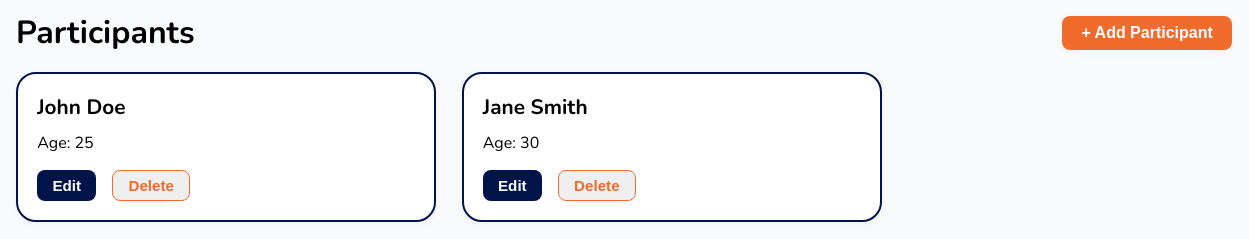
Test: ParticipantsHome Component - Unit Tests › Delete Participant Functionality › should delete participant successfully
The width and height of the screenshot is (1249, 239).
Expected: the heading "John Doe" is shown, x1=37 y1=93 x2=126 y2=121
Expected: the heading "Jane Smith" is shown, x1=483 y1=93 x2=588 y2=121
# Click delete on first participant
Click the button "Delete" below "25": (151, 185) x1=112 y1=170 x2=190 y2=201
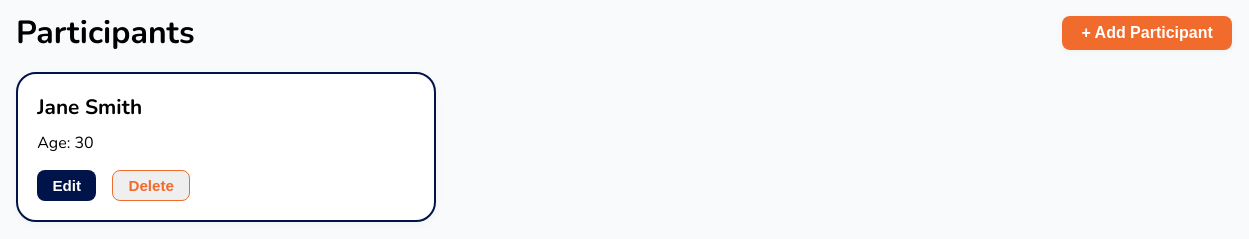
Expected: the heading "Jane Smith" is shown, x1=37 y1=93 x2=142 y2=121
Now the heading "John Doe" is gone
